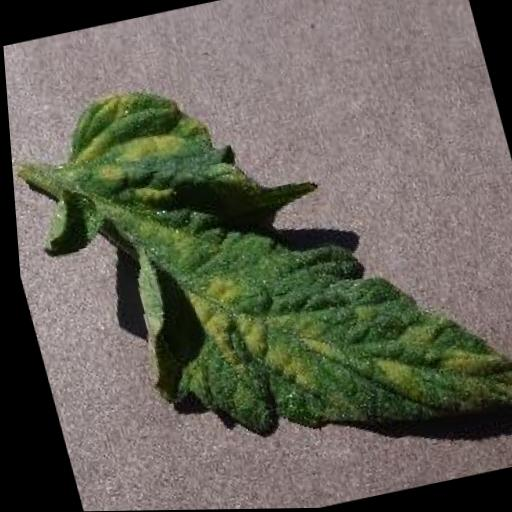Leaf Mold: (1, 18, 512, 499)
